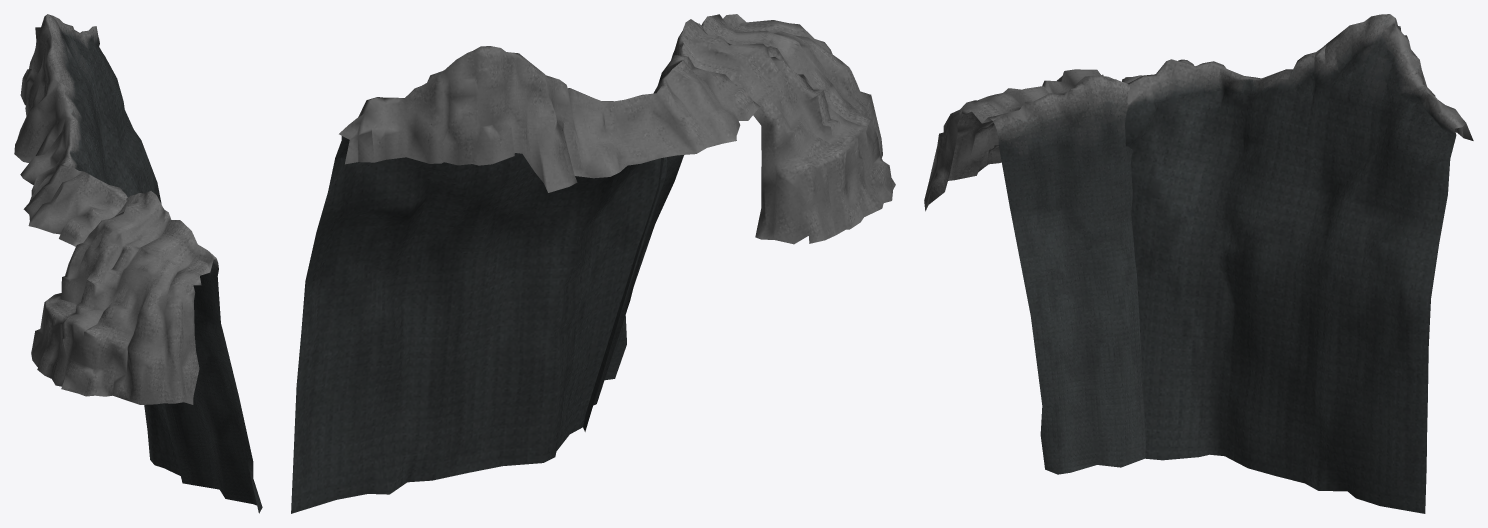
The model's file is clod_terrain_04_04_clod_001.gltf.
The picture shows the model from 3 angles, left to right: view 1: azimuth 30°, elevation 25°; view 2: azimuth 150°, elevation 25°; view 3: azimuth 270°, elevation 25°; orthographic projection. The views are drawn at different scales.
Parts seen in each view (by area): view 1: um_clod_terrain_04_04_clod_001_0_Shape1:aggregation_mat; view 2: um_clod_terrain_04_04_clod_001_0_Shape1:aggregation_mat; view 3: um_clod_terrain_04_04_clod_001_0_Shape1:aggregation_mat.
Boxes of the visible parts, x1,y1,x2,y2 form: um_clod_terrain_04_04_clod_001_0_Shape1:aggregation_mat: [14, 14, 262, 513]; um_clod_terrain_04_04_clod_001_0_Shape1:aggregation_mat: [291, 14, 895, 513]; um_clod_terrain_04_04_clod_001_0_Shape1:aggregation_mat: [924, 14, 1473, 513].
Bounding box in the file's own units: 325 × 419 × 487.
1 material, 1 textured.
